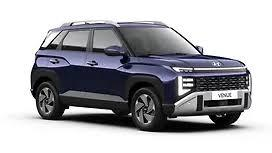hyundai: (208, 59, 226, 71)
